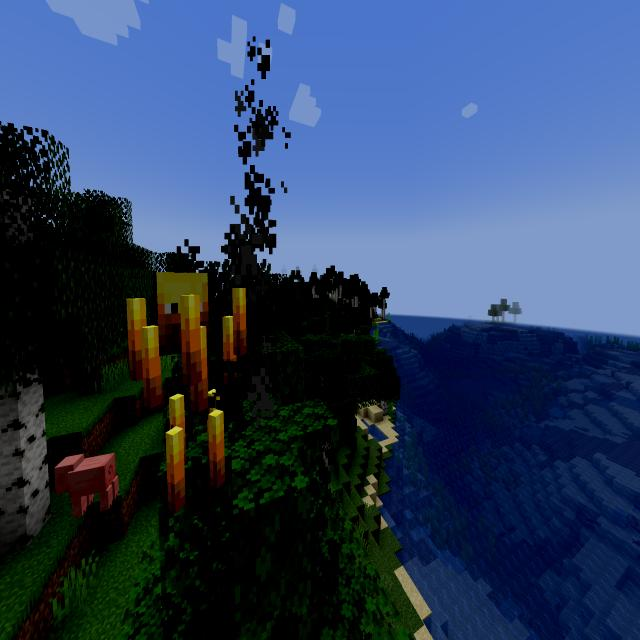pig: (52, 441, 122, 526)
